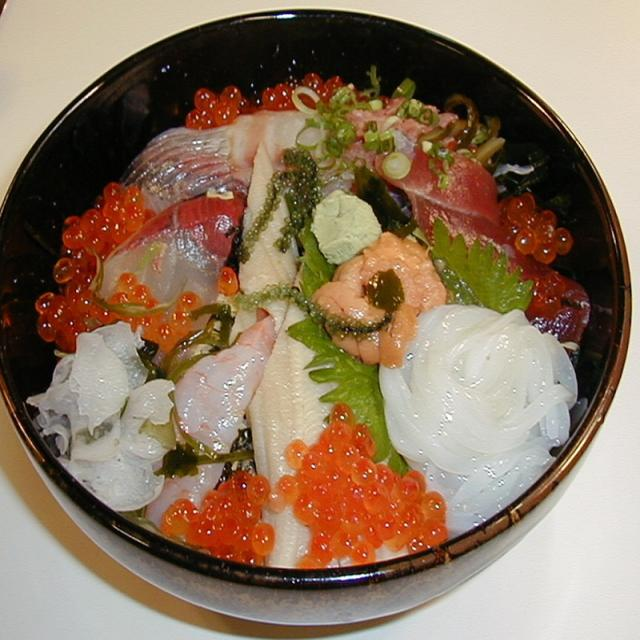刺身生食: (0, 5, 640, 632)
